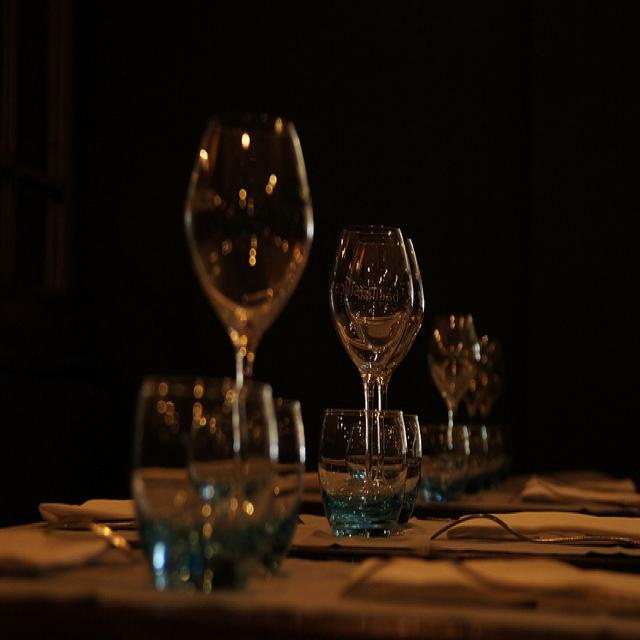Cup: (190, 85, 316, 359), (325, 222, 420, 452), (155, 375, 253, 583), (309, 395, 418, 558), (222, 343, 296, 555), (466, 278, 531, 503), (276, 375, 329, 564), (387, 402, 452, 551), (438, 314, 481, 472)
Table: (0, 468, 640, 640)
